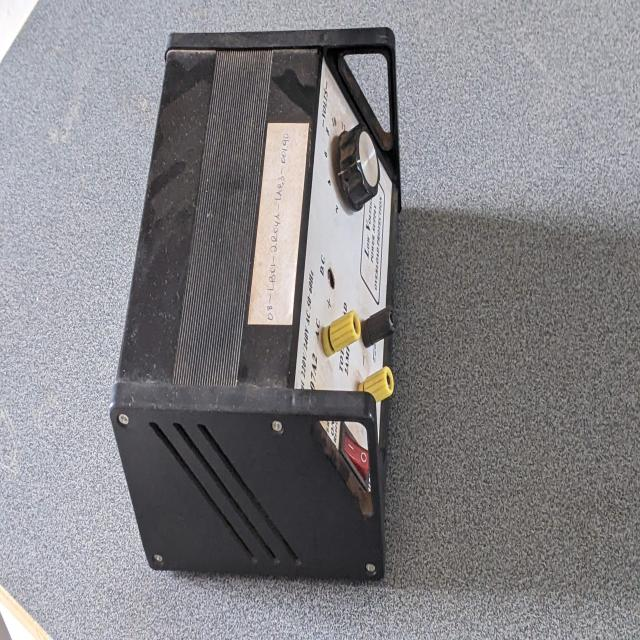AC-AD Regulated Power Supply: (101, 15, 409, 589)
